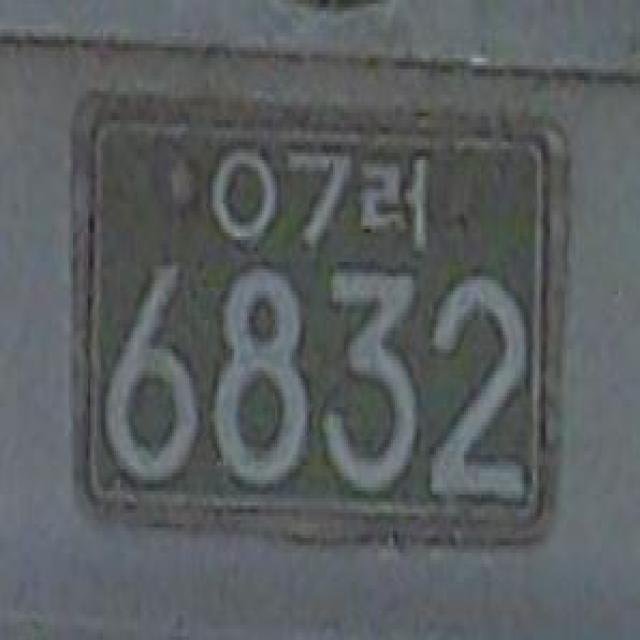illegal_plate: (67, 76, 580, 571)
